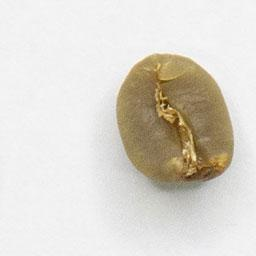premium: (112, 43, 239, 189)
